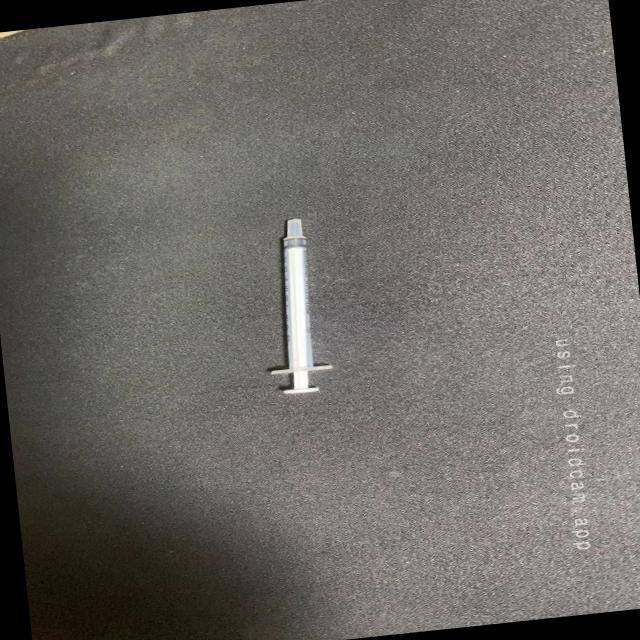syringe: (242, 210, 343, 404)
